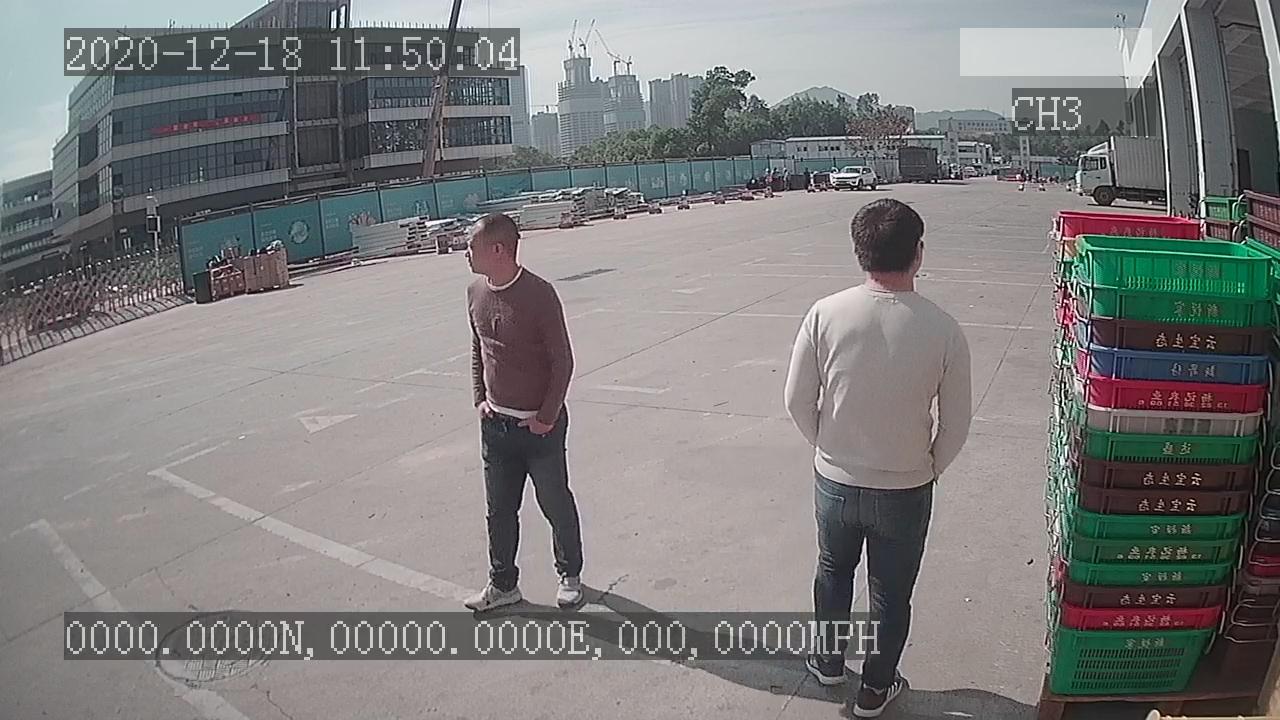person: (454, 206, 593, 611)
